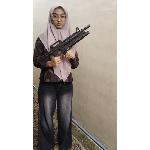Senapan: (36, 20, 98, 70)
